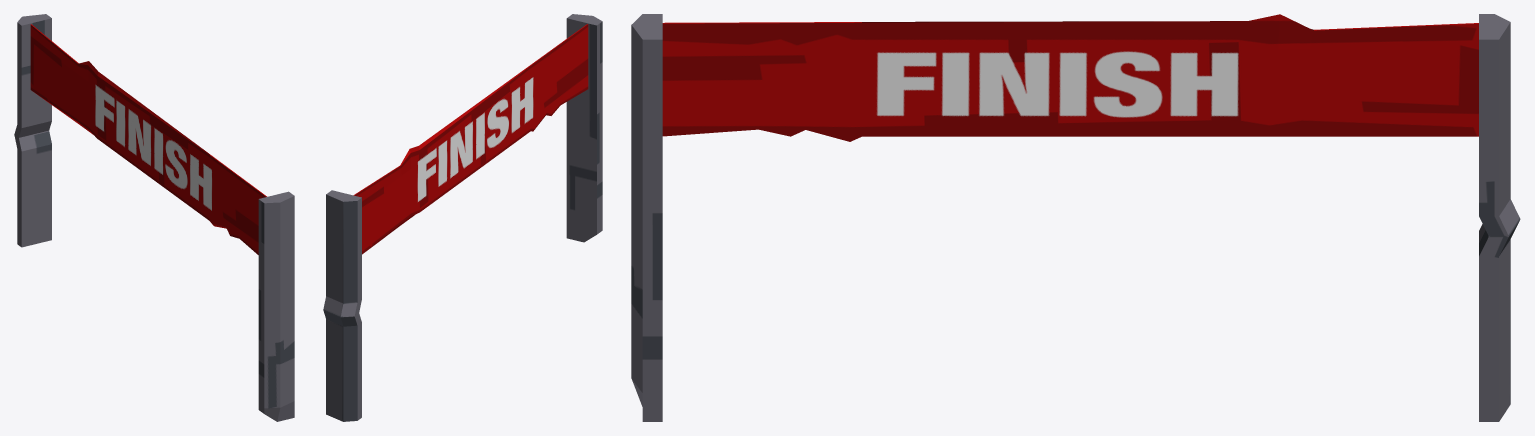
File: finish_sign.FBX
The picture shows the model from 3 angles, left to right: view 1: azimuth 30°, elevation 25°; view 2: azimuth 150°, elevation 25°; view 3: azimuth 270°, elevation 25°; orthographic projection. The views are drawn at different scales.
Parts seen in each view (by area): view 1: Box085; view 2: Box085; view 3: Box085.
Boxes of the visible parts, x1=… form: Box085: x1=14, y1=14, x2=294, y2=421; Box085: x1=323, y1=14, x2=602, y2=421; Box085: x1=631, y1=14, x2=1520, y2=421.
Bounding box in the file's own units: 4.99 × 35.6 × 73.49.
3 materials, 3 textured.
